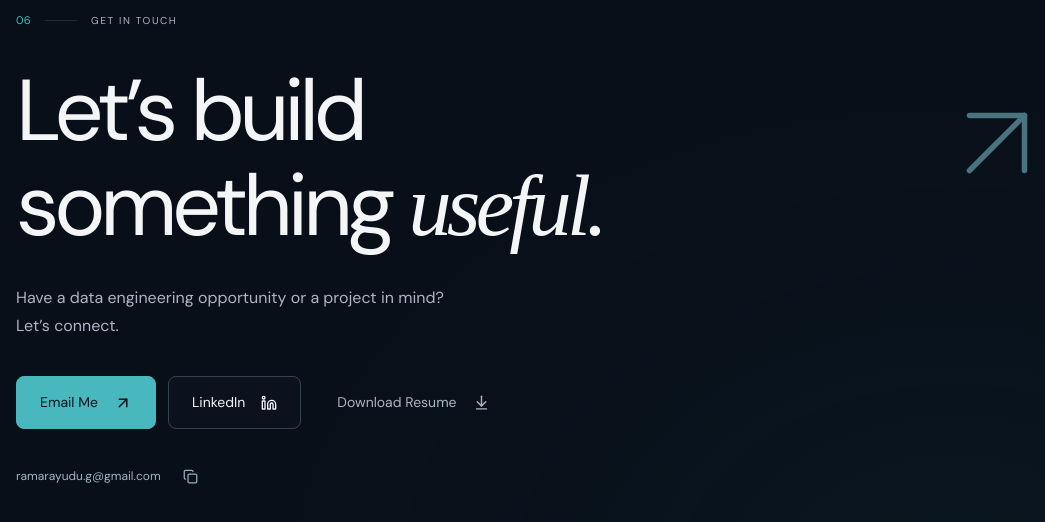
direct contact › reports a failed copy without showing success
What coordinates should you click on to do the following:
click the button named "Copy email address"
I would click on:
 (191, 476)
Its box is [169, 454, 213, 498].
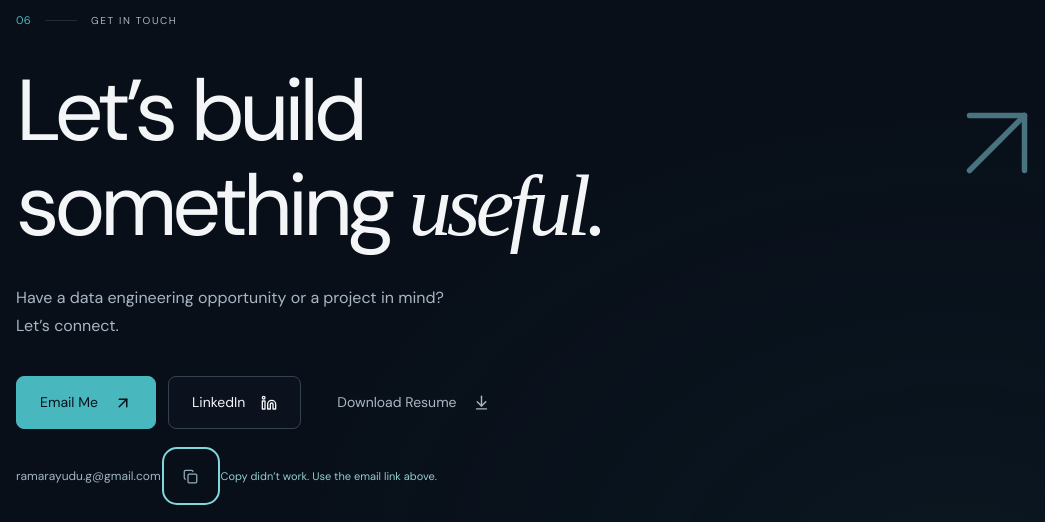
Result: the message shows "Copy didn’t work" at [221, 469, 437, 483]
